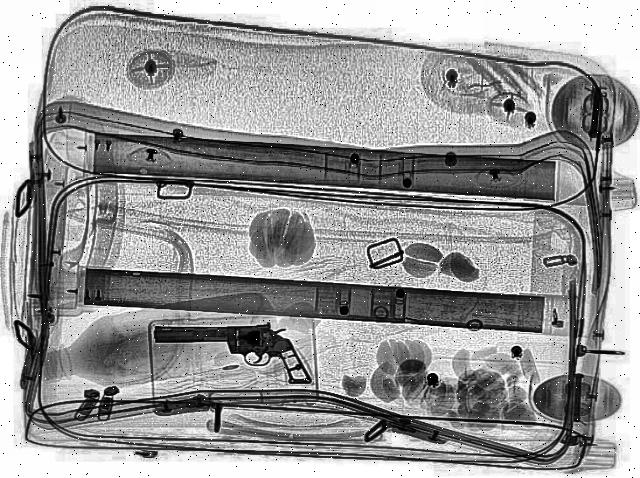Gun: (144, 315, 318, 383)
